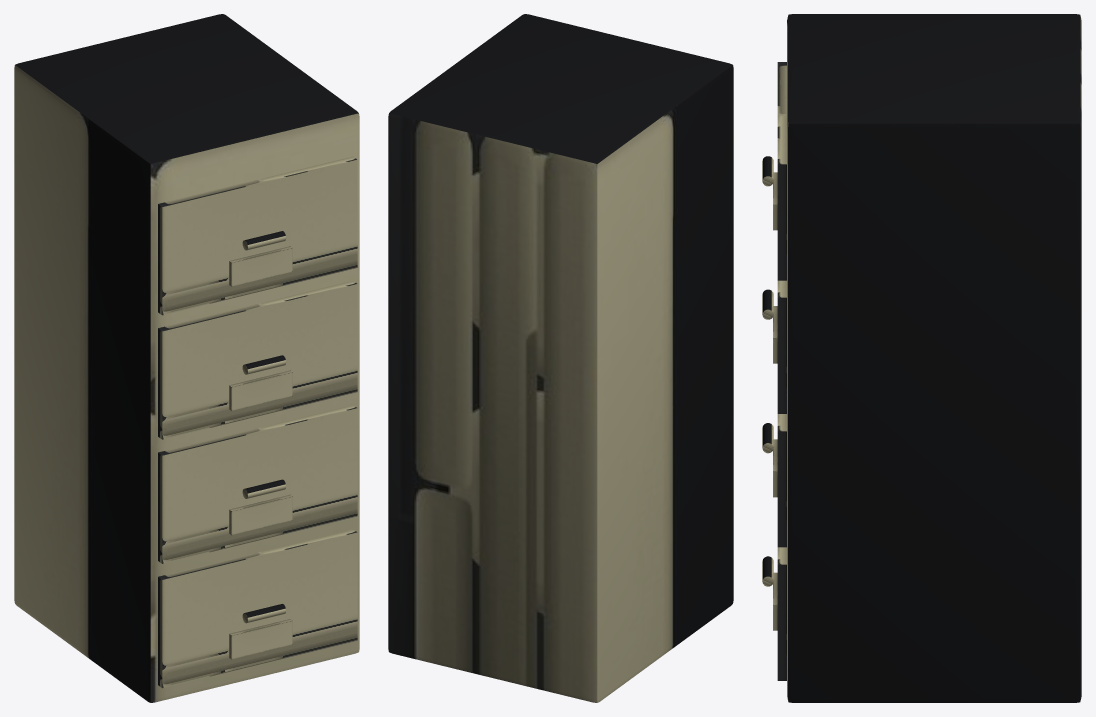
File: PR_filing_cabinet.glb
3 views of the same model, side by side, from view 1: azimuth 30°, elevation 25°; view 2: azimuth 150°, elevation 25°; view 3: azimuth 270°, elevation 25° (orthographic). The views are drawn at different scales.
Visible parts, largest first — view 1: PR_filing_cabinet; view 2: PR_filing_cabinet; view 3: PR_filing_cabinet.
Boxes of the visible parts, box(x1,y1,x2,y2) form: PR_filing_cabinet: box(14, 14, 359, 702); PR_filing_cabinet: box(388, 14, 733, 702); PR_filing_cabinet: box(762, 14, 1081, 702).
Size of the model in its own units: 0.55 by 1.35 by 0.672.
1 material, 1 textured.
